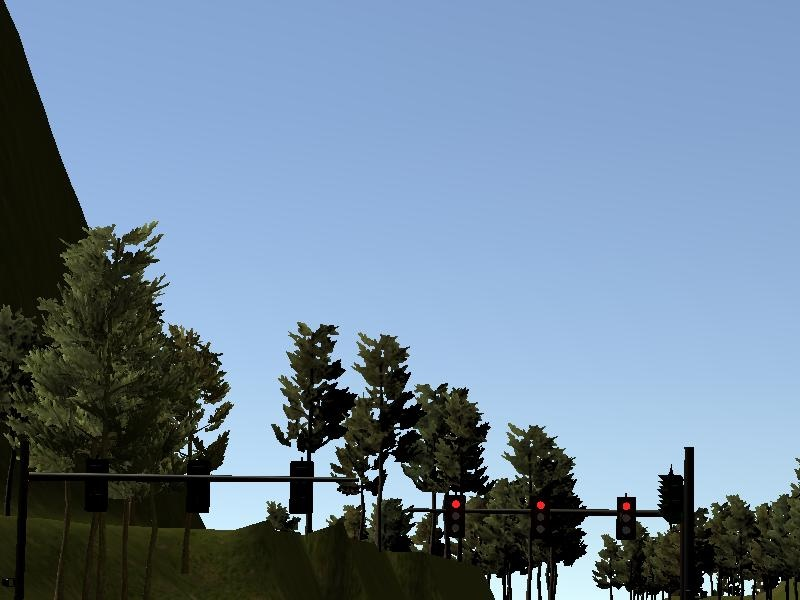Red: (616, 497, 636, 538), (531, 496, 549, 537), (447, 495, 465, 536)
